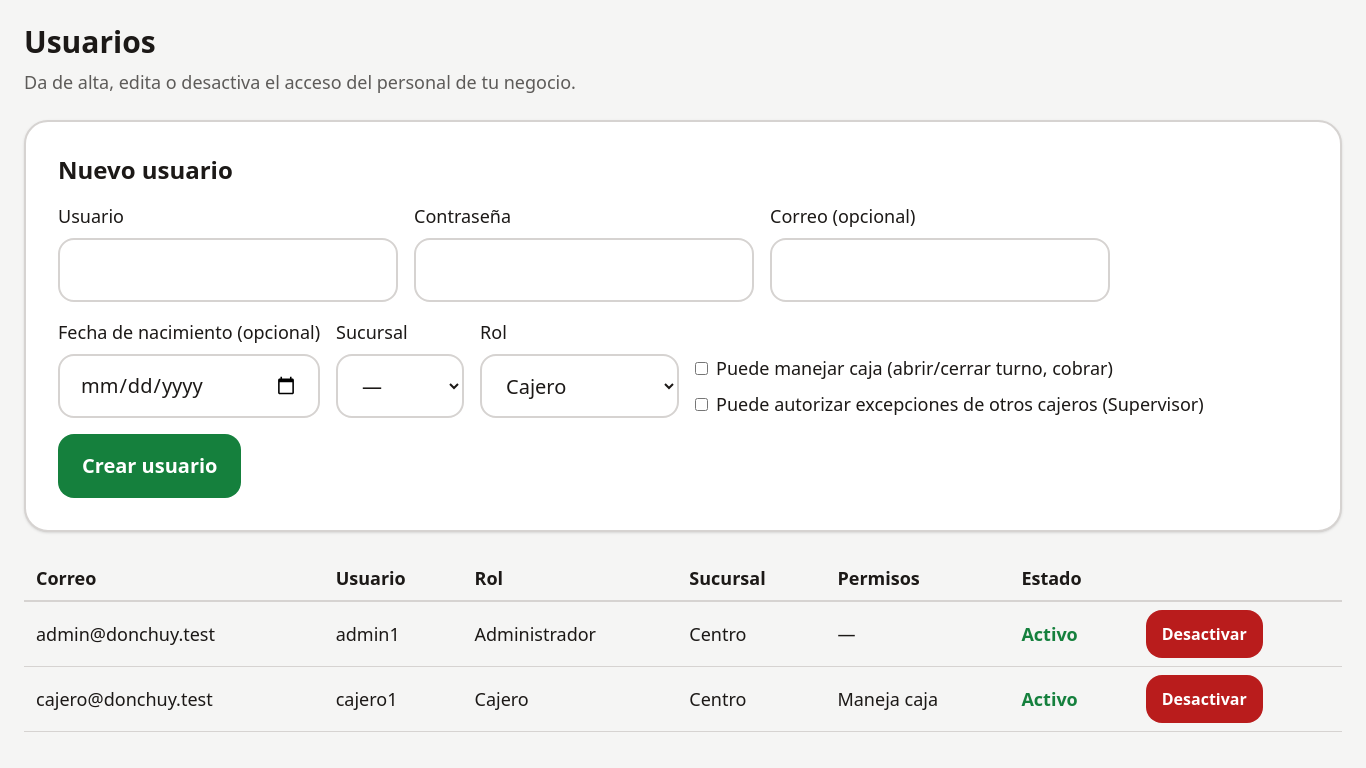
UserManagementScreen › crea un usuario nuevo con el formulario (username + email opcional)
expect the text "admin@donchuy.test" is shown: met, box [24,601,324,666]
Type "nuevo_cajero" into the field labelled "Usuario" at [228, 270], box [58,238,398,302]
Type "ClaveSegura2026!" into the password field labelled "Contraseña" at [584, 270], box [414,238,754,302]
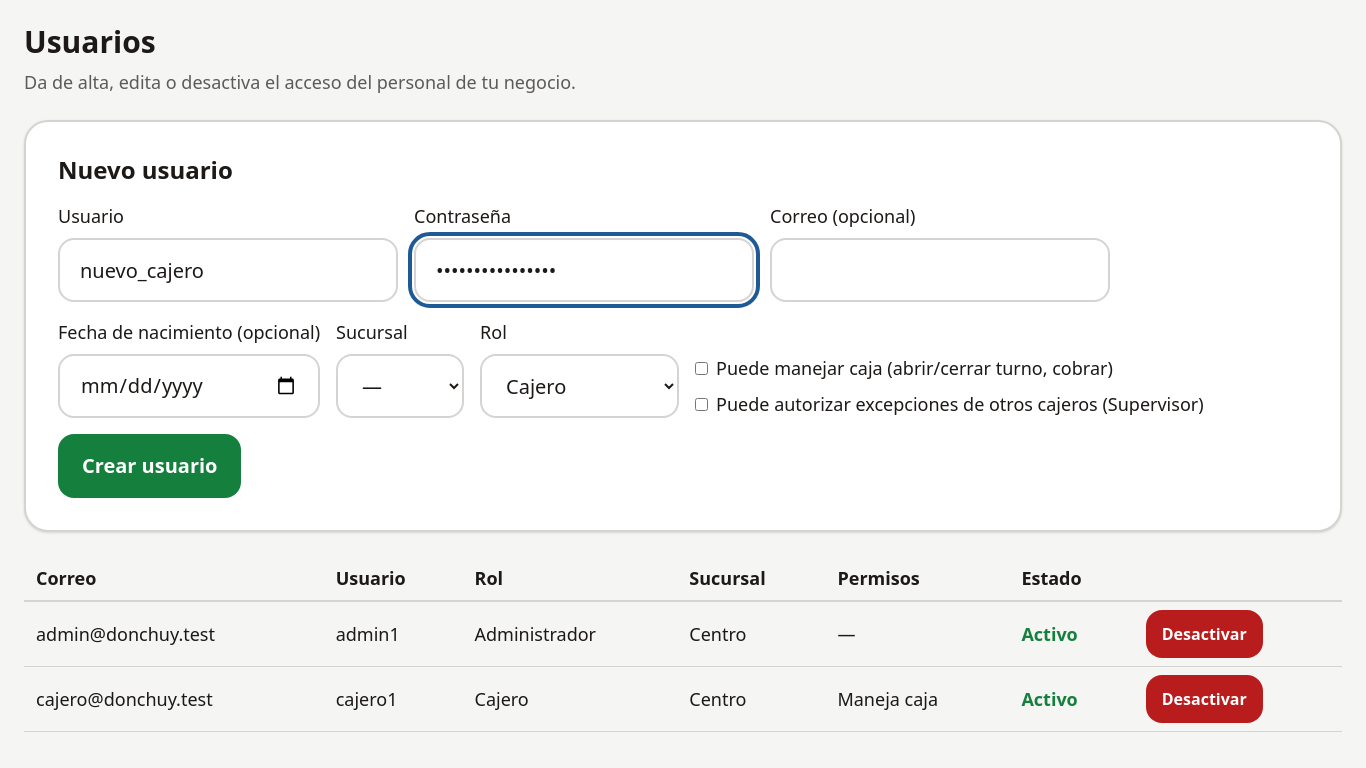
Type "nuevo@donchuy.test" into the field labelled "Correo (opcional)" at [940, 270], box [770,238,1110,302]
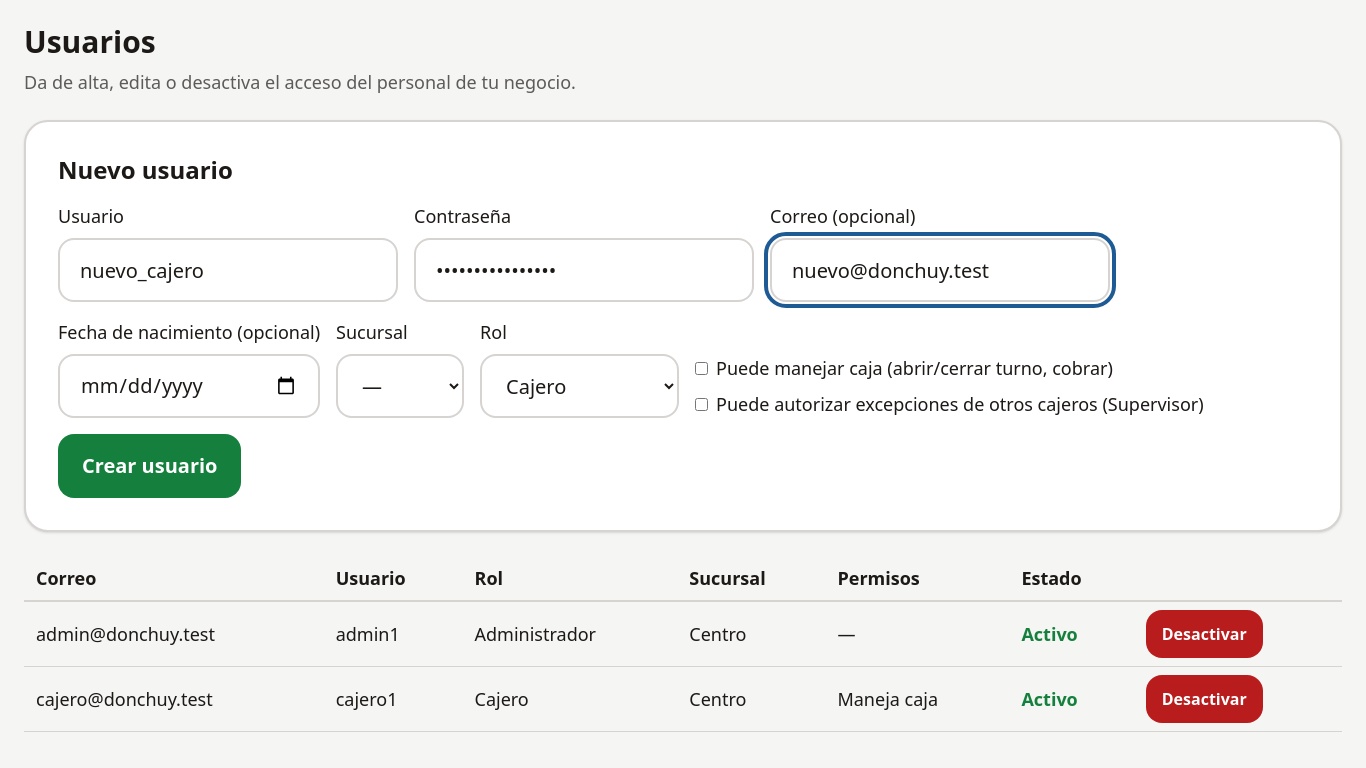
Type "1998-06-20" into the date field labelled "Fecha de nacimiento (opcional)" at [189, 386], box [58,354,320,418]
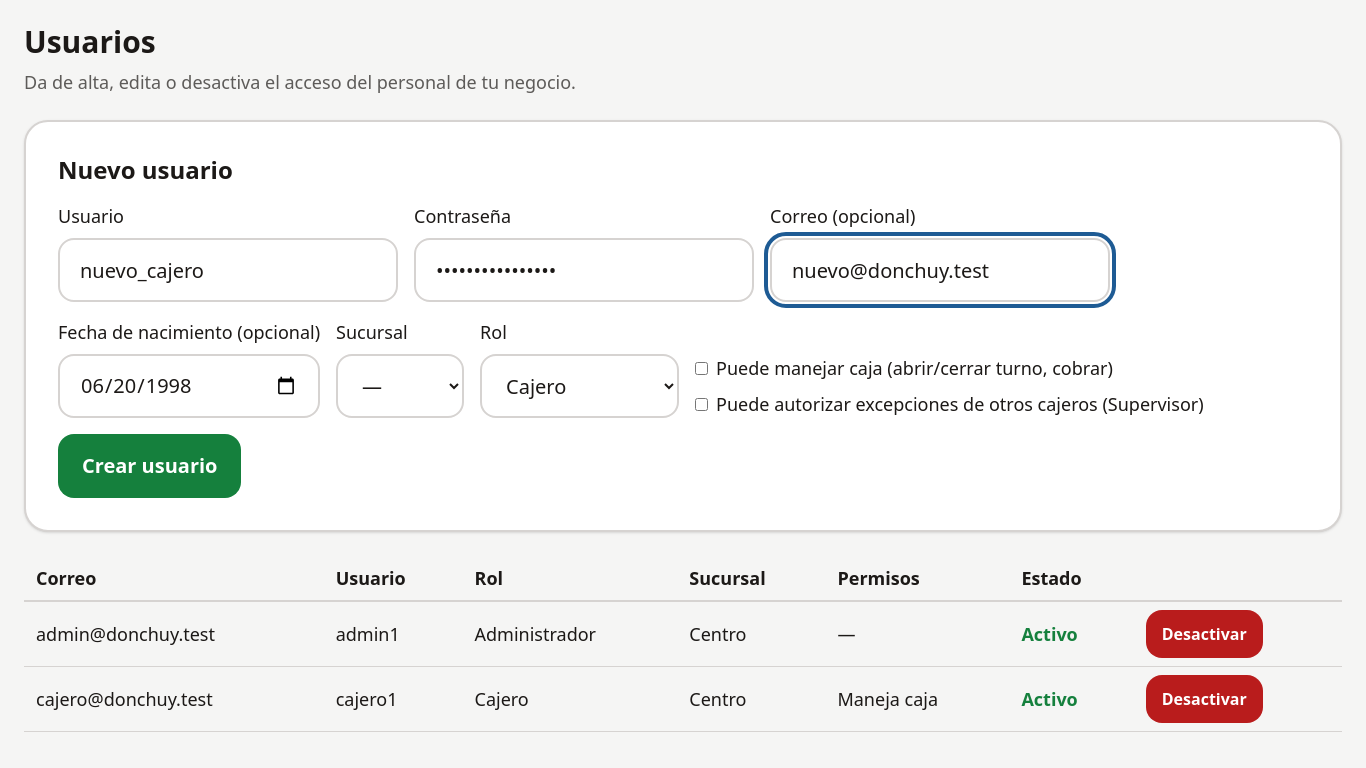
Select "Centro" in the dropdown labelled "Sucursal" at [400, 386], box [336,354,464,418]
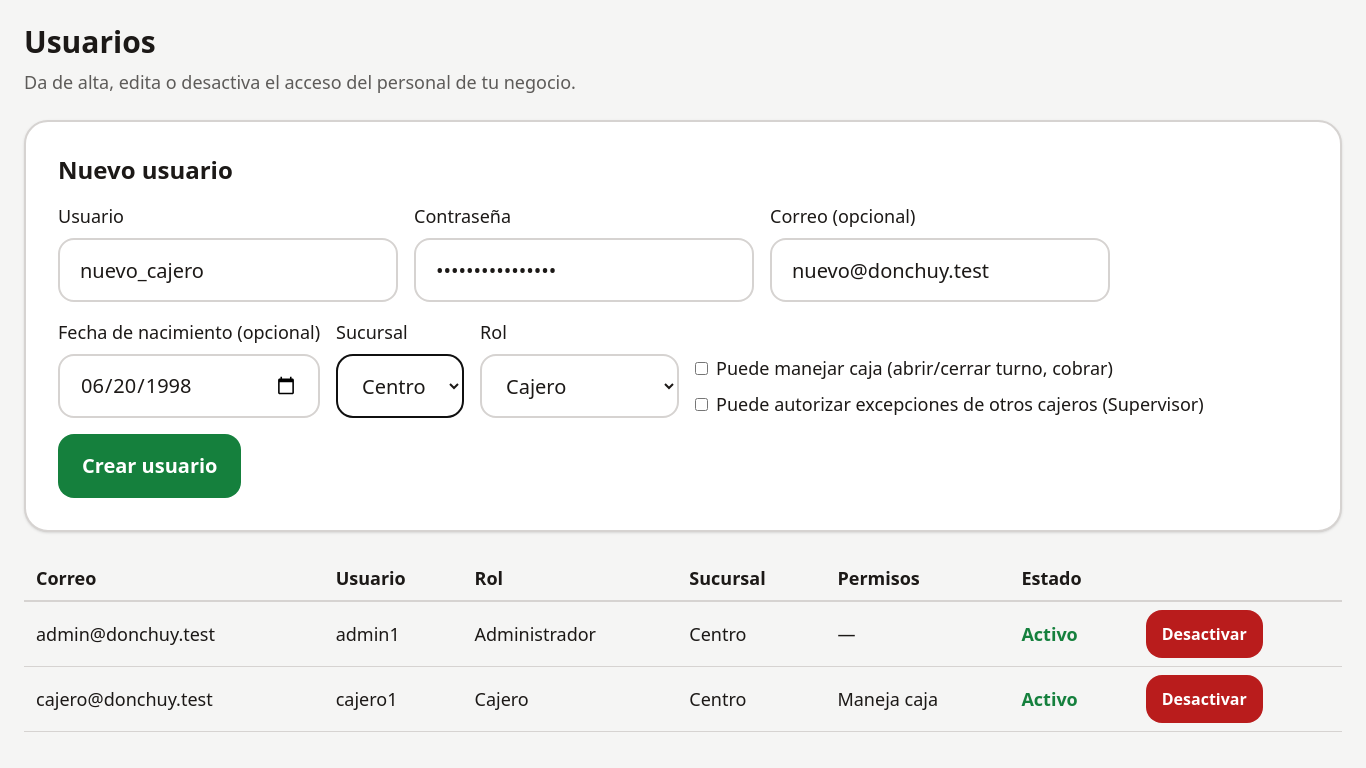
Click the checkbox labelled "Puede manejar caja (abrir/cerrar turno, cobrar)" at [702, 368], box [695,362,708,374]
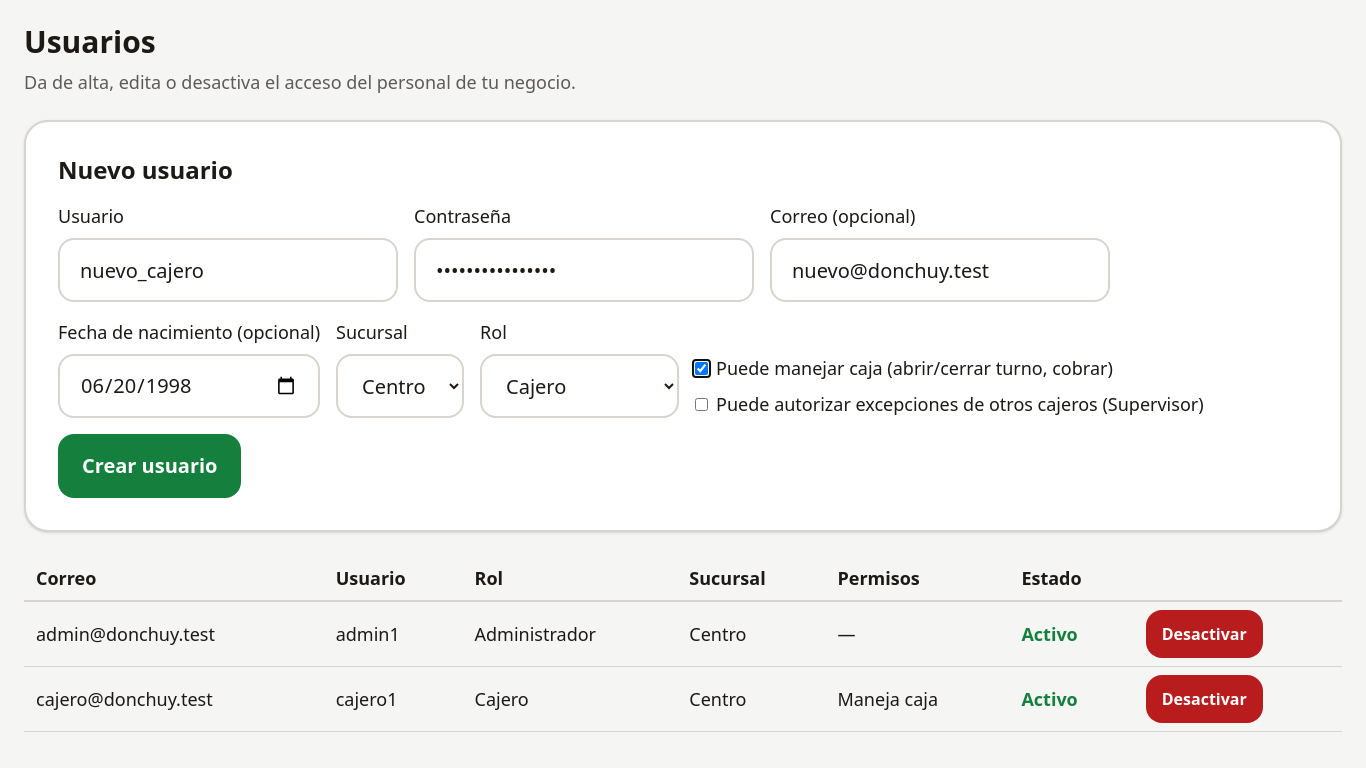
Click the button "Crear usuario" at [150, 466], box [58,434,242,498]
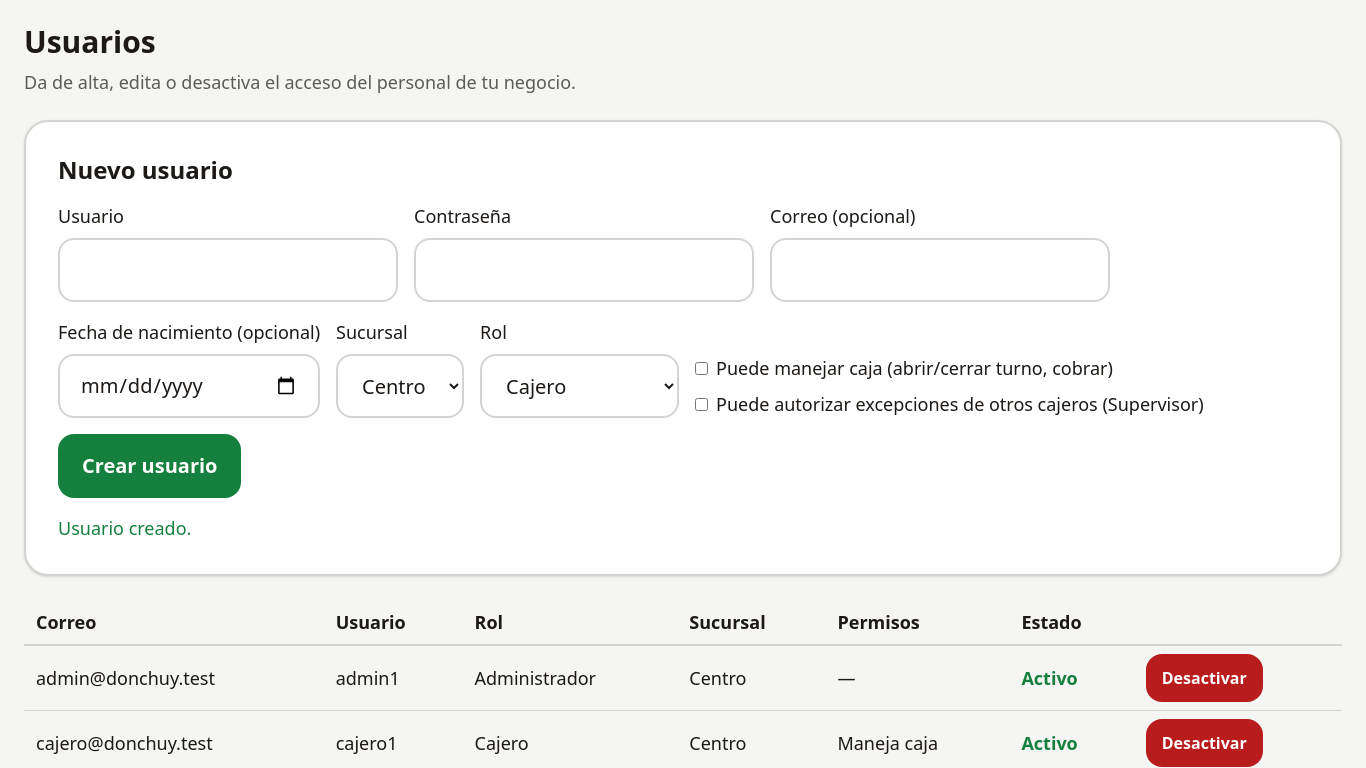
expect the text "Usuario creado." is shown: met, box [58,516,191,540]
